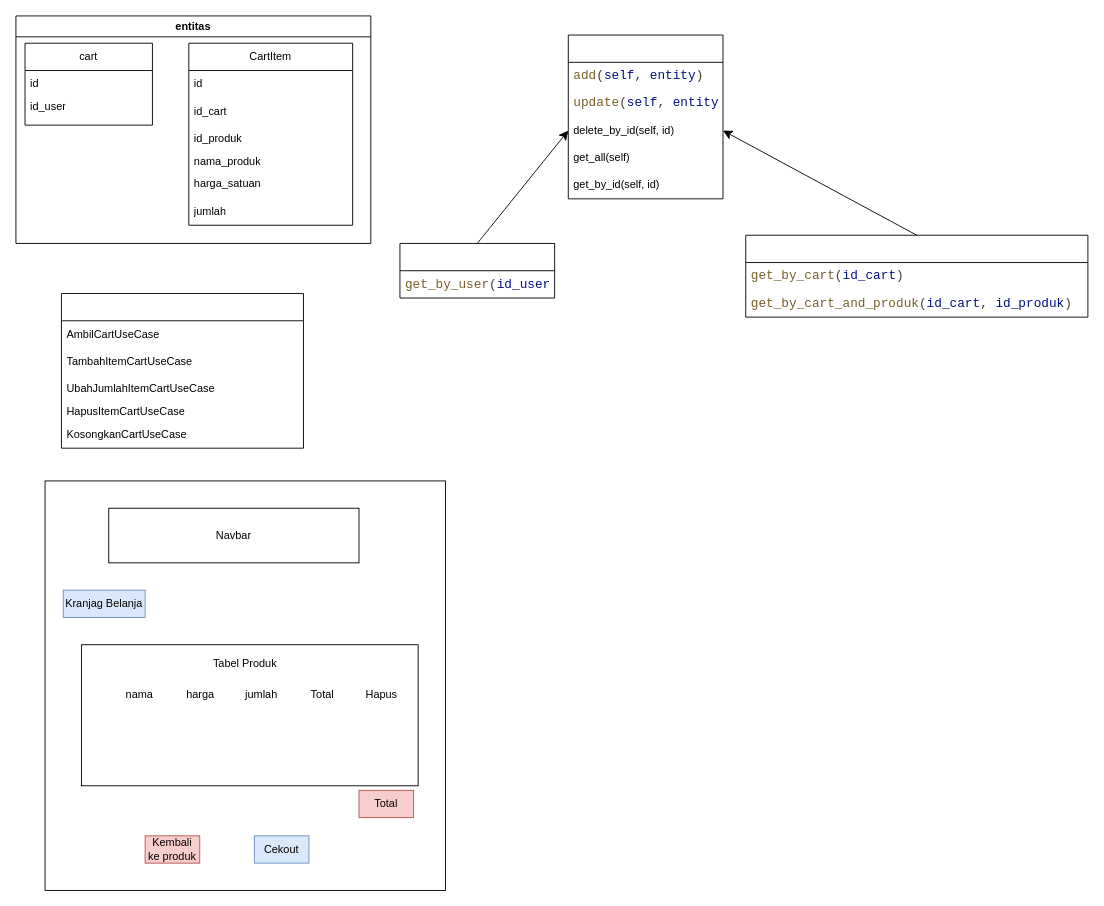
The diagram is 1104 pixels wide and 906 high, and some of its shapes have lost their labels. Here are the shapes that lost their labels. From the top down, the box of each, then its label:
(567, 34, 723, 199): BaseRepository
(399, 243, 555, 298): CartRepository
(745, 234, 1088, 317): CartItemRepository
(61, 293, 303, 448): UseCaseCart
